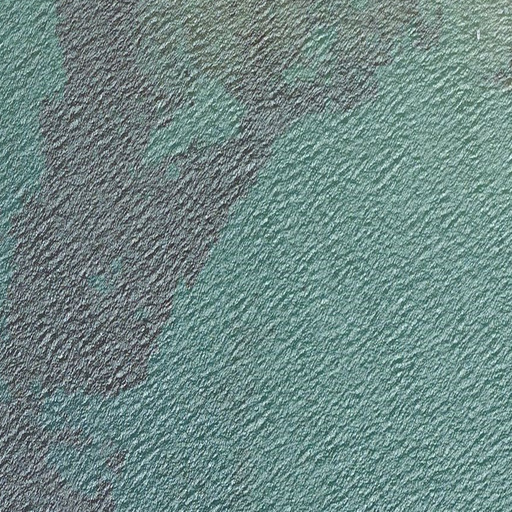ship: (474, 28, 481, 44)
